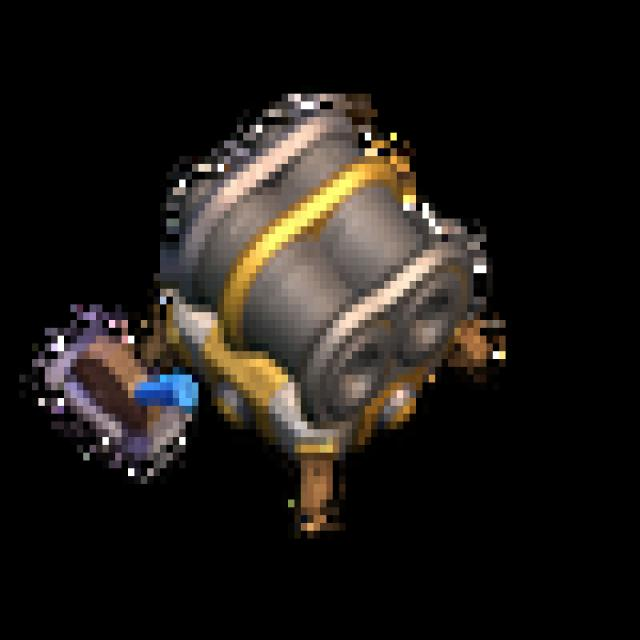cannon: (24, 81, 522, 555)
